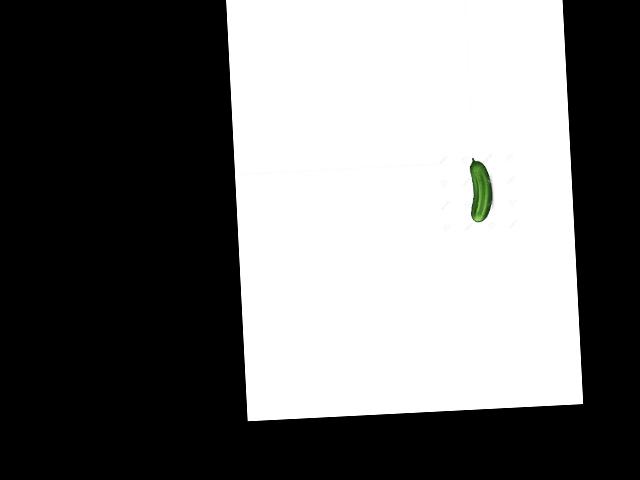cucumber: (468, 157, 494, 222)
